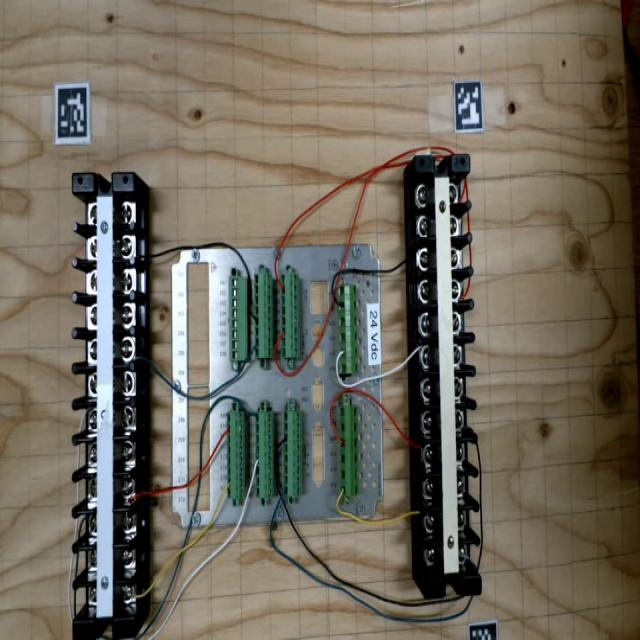Flathead_Block: (415, 155, 481, 599)
Phillips_Block: (73, 173, 135, 639)
Terminal_1: (338, 284, 358, 374), (339, 405, 358, 497)
Terminal_2: (255, 412, 274, 500), (226, 412, 245, 500), (254, 273, 273, 358), (284, 410, 302, 497), (281, 273, 299, 357)
